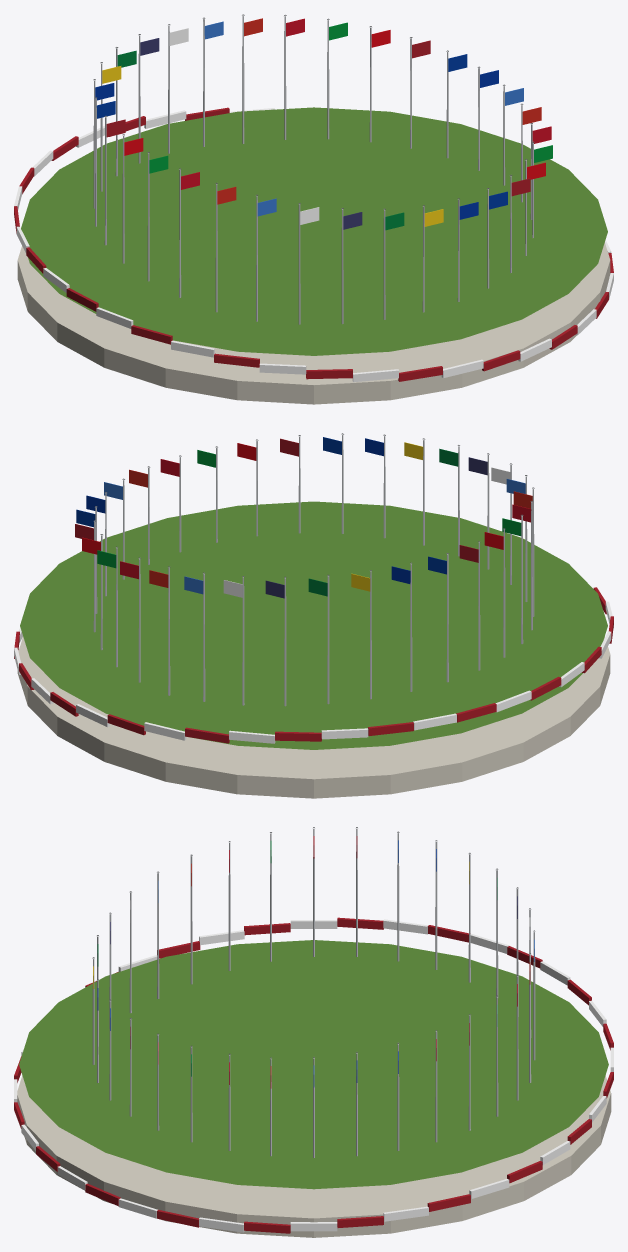
File: rb_airportflags.glb
3 views of the same model, one above another, from view 1: azimuth 30°, elevation 25°; view 2: azimuth 150°, elevation 25°; view 3: azimuth 270°, elevation 25° (orthographic).
Visible parts, largest first — view 1: rb_airportflags_lod0; view 2: rb_airportflags_lod0; view 3: rb_airportflags_lod0.
Boxes of the visible parts, x1=… form: rb_airportflags_lod0: x1=14, y1=14, x2=613, y2=404; rb_airportflags_lod0: x1=14, y1=433, x2=613, y2=798; rb_airportflags_lod0: x1=14, y1=827, x2=613, y2=1237.
Size of what is drawn, in the model's own units: 53.1 by 19.01 by 53.1.
